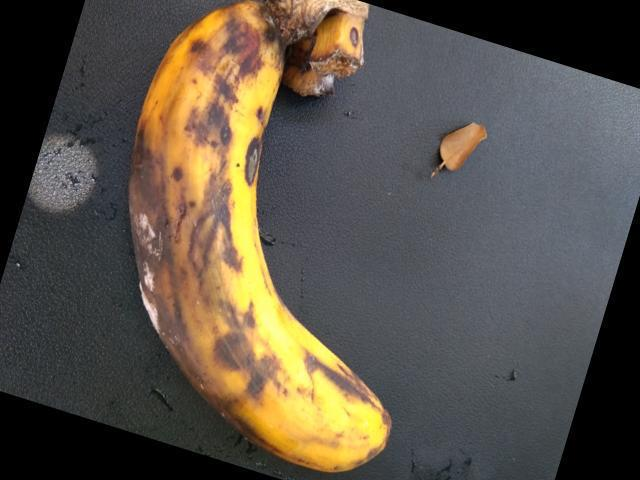overripe: (145, 3, 409, 479)
rotten: (89, 131, 276, 409)
